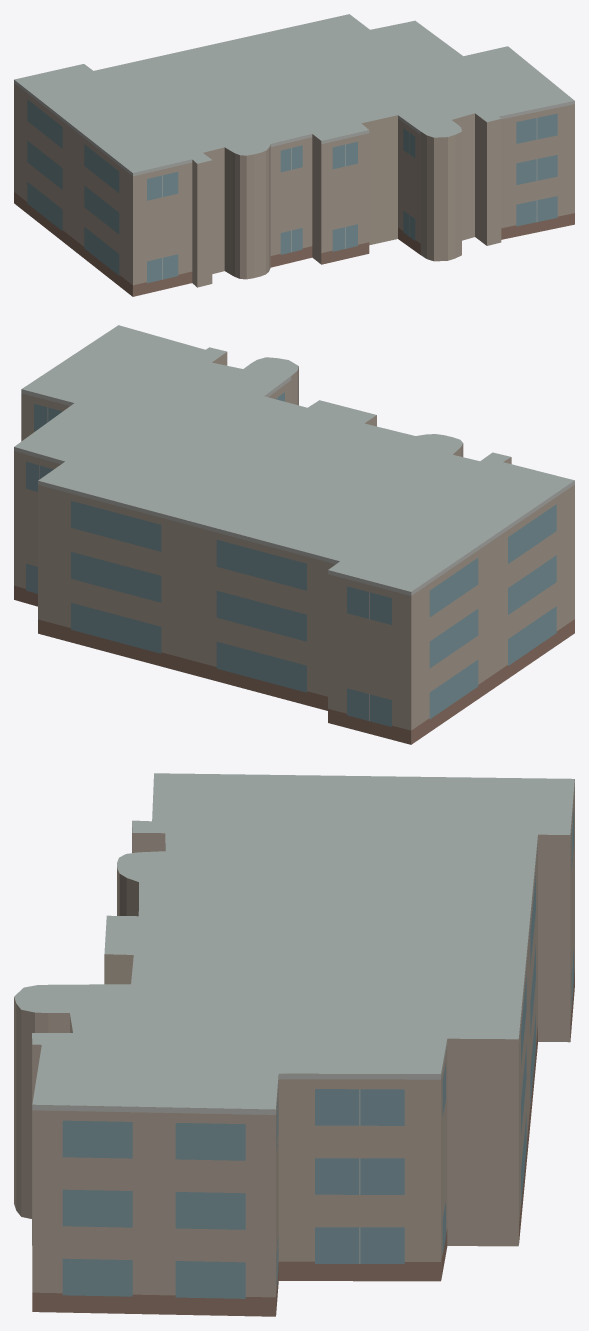
Rendered from survey-upis-32833146.glb.
3 renders of one model, top to bottom at view 1: azimuth 30°, elevation 25°; view 2: azimuth 150°, elevation 25°; view 3: azimuth 270°, elevation 25°, orthographic. The views are drawn at different scales.
Parts seen in each view (by area): view 1: survey-upis-32833146.tmp; view 2: survey-upis-32833146.tmp; view 3: survey-upis-32833146.tmp.
Boxes of the visible parts, left/top/right/bottom form: survey-upis-32833146.tmp: left=14, top=14, right=574, bottom=296; survey-upis-32833146.tmp: left=14, top=325, right=574, bottom=744; survey-upis-32833146.tmp: left=14, top=773, right=574, bottom=1316.
Bounding box in the file's own units: 31.85 × 9.15 × 22.45.
